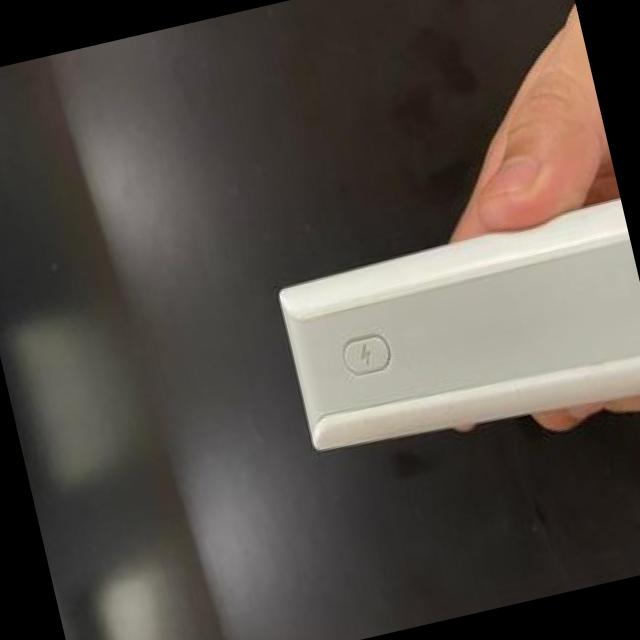portable-charger: (262, 193, 640, 475)
